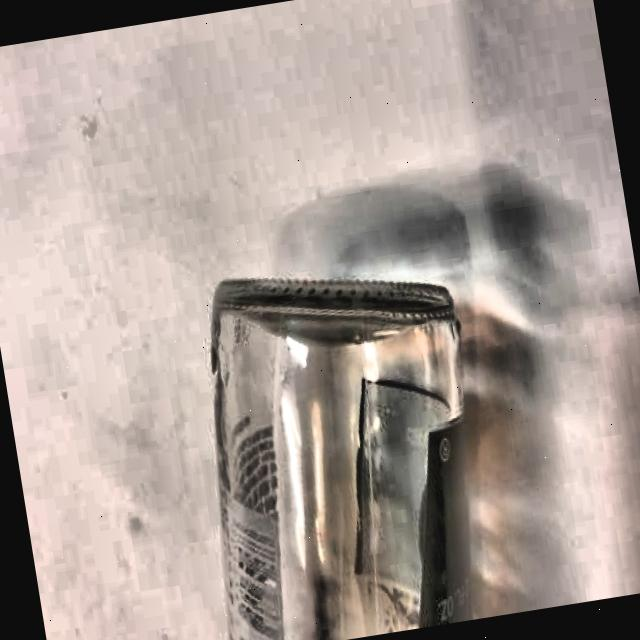glass: (174, 237, 509, 640)
